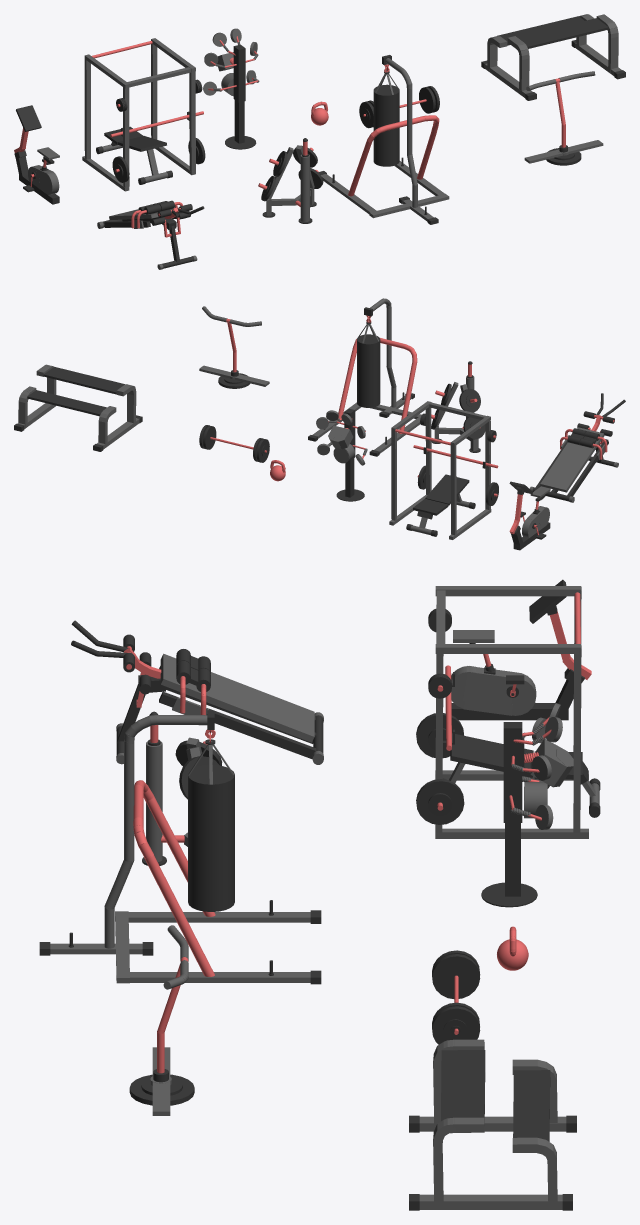
File: Geometricprops.fbx
3 views of the same model, one above another, from view 1: azimuth 30°, elevation 25°; view 2: azimuth 150°, elevation 25°; view 3: azimuth 270°, elevation 25° (orthographic). The views are drawn at different scales.
Visible parts, largest first — view 1: Punching_bag, Shelf_2, Stand_1, Cage_left_2, Cage_right_1, Pole, Cage_left_1, Shelf_1, Cage_right_2, Foot_part, Leg_2, Leg_4 (+8 smaller); view 2: Seat (×2), Punching_bag, Shelf_2, Shelf_1, Back, Cage_right_1, Cage_left_1, Cage_left_2, Foot_part, Cage_right_2, Stand; view 3: Punching_bag, Seat, Shelf_2, Shelf_1, Leg_32, Stand (×2), Stand_1, Leg_4, Leg_3, Larger_cylinder_4, Back, arm_1 (+18 smaller).
Part boxes in pixels (x1,y1,x2,y2): Punching_bag: [373, 84, 399, 166]; Shelf_2: [517, 18, 608, 48]; Stand_1: [233, 44, 245, 102]; Cage_left_2: [189, 71, 195, 171]; Cage_right_1: [84, 59, 90, 159]; Pole: [300, 154, 309, 221]; Cage_left_1: [151, 40, 157, 139]; Shelf_1: [497, 16, 584, 45]; Cage_right_2: [123, 86, 129, 187]; Foot_part: [524, 140, 603, 163]; Leg_2: [369, 194, 449, 218]; Leg_4: [321, 174, 376, 213]; Seat (×2): [413, 427, 604, 515]; Punching_bag: [357, 334, 380, 407]; Shelf_2: [43, 367, 124, 394]; Shelf_1: [27, 390, 106, 416]; Back: [425, 474, 469, 505]; Cage_right_1: [450, 443, 456, 535]; Cage_left_1: [391, 428, 397, 520]; Cage_left_2: [425, 407, 431, 494]; Foot_part: [199, 365, 269, 386]; Cage_right_2: [485, 420, 490, 509]; Stand: [345, 458, 354, 497]; Punching_bag: [188, 765, 234, 911]; Seat: [160, 653, 314, 742]; Shelf_2: [441, 1050, 485, 1121]; Shelf_1: [513, 1070, 550, 1141]; Leg_32: [419, 1194, 562, 1209]; Stand (×2): [129, 823, 520, 1105]; Stand_1: [503, 722, 522, 822]; Leg_4: [128, 912, 310, 922]; Leg_3: [128, 972, 310, 982]; Larger_cylinder_4: [432, 954, 480, 998]; Back: [450, 733, 533, 777]; arm_1: [159, 691, 316, 759].
Size of the model in its own units: 13.2 by 2.95 by 6.24.
